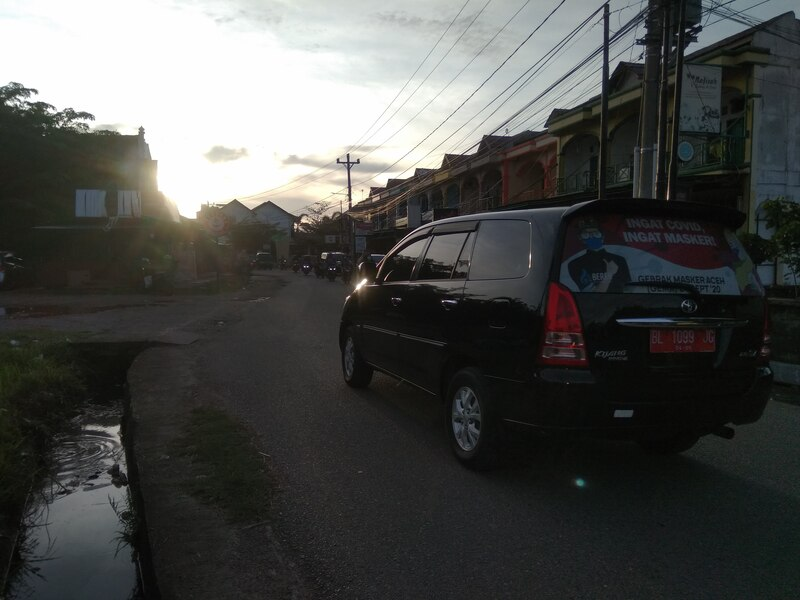car: (336, 193, 777, 521)
